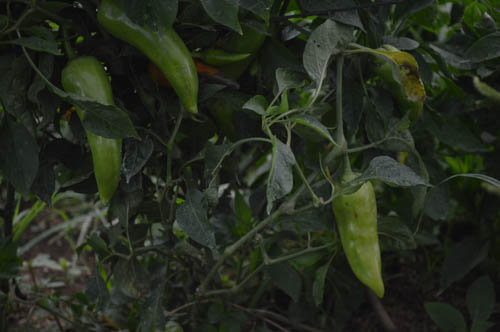ChiliPepper: (98, 1, 205, 116), (60, 63, 132, 205), (331, 172, 392, 298), (373, 45, 427, 123)
